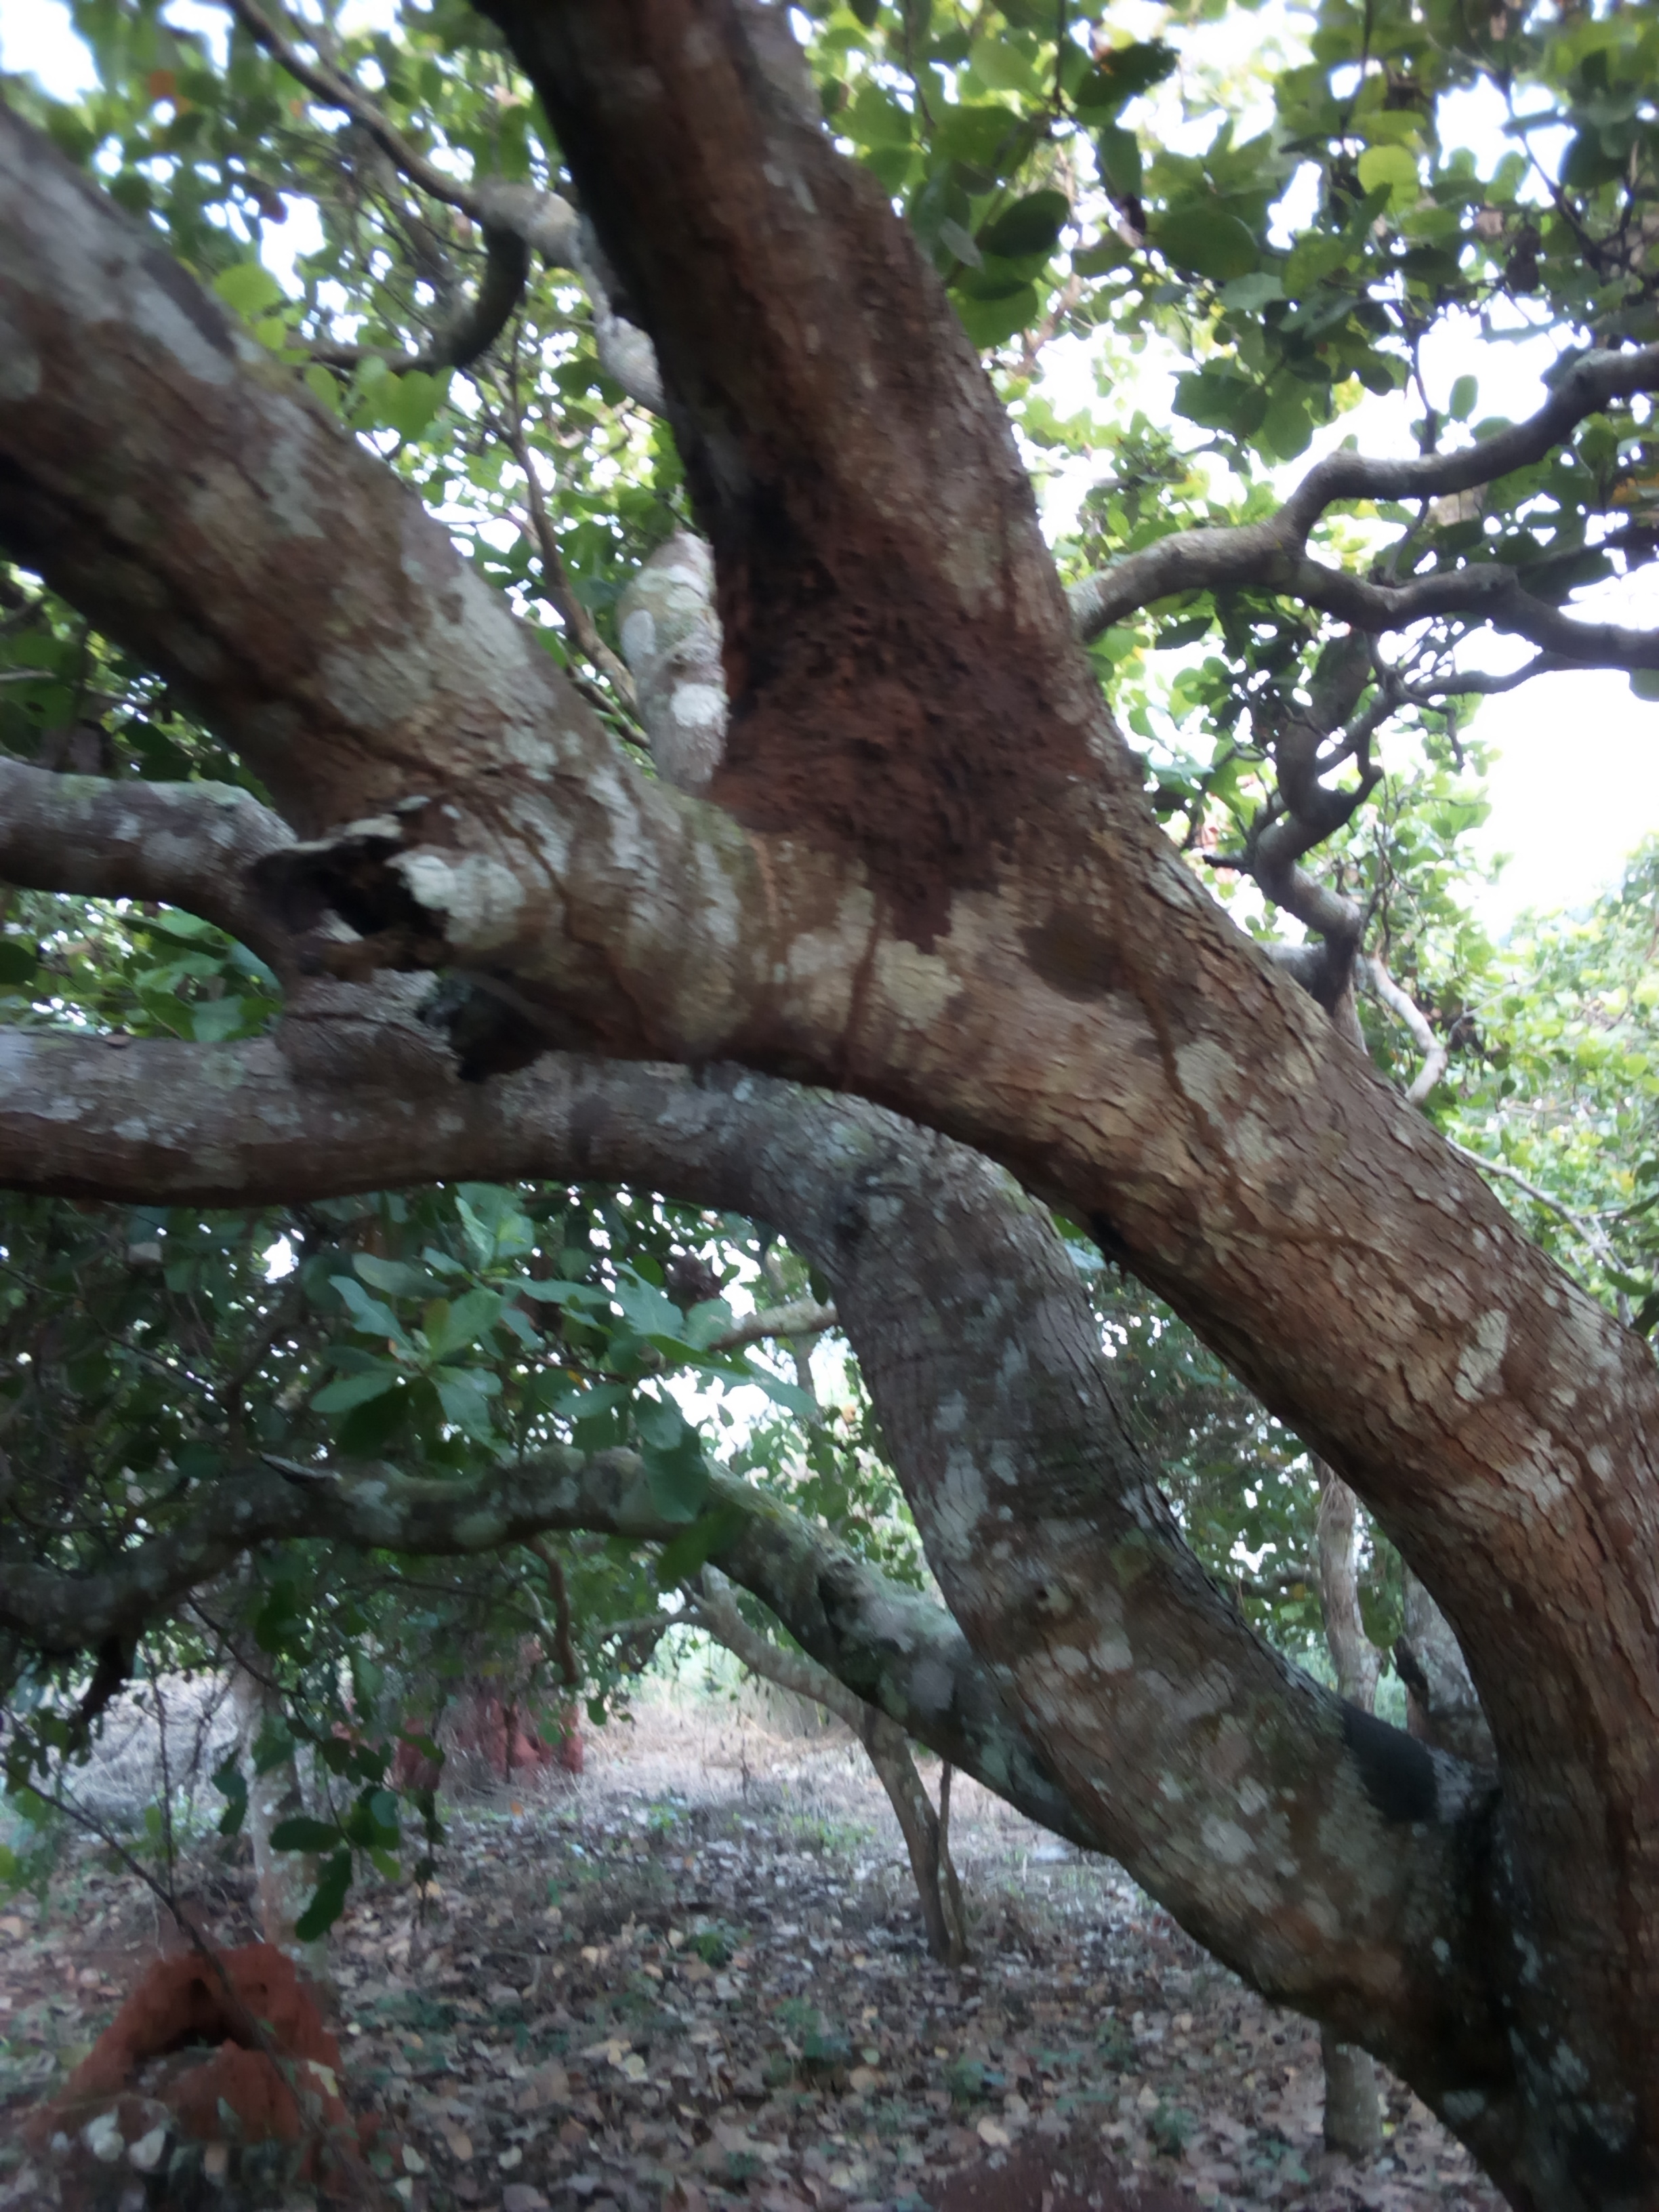Termites: (697, 439, 1087, 873)
